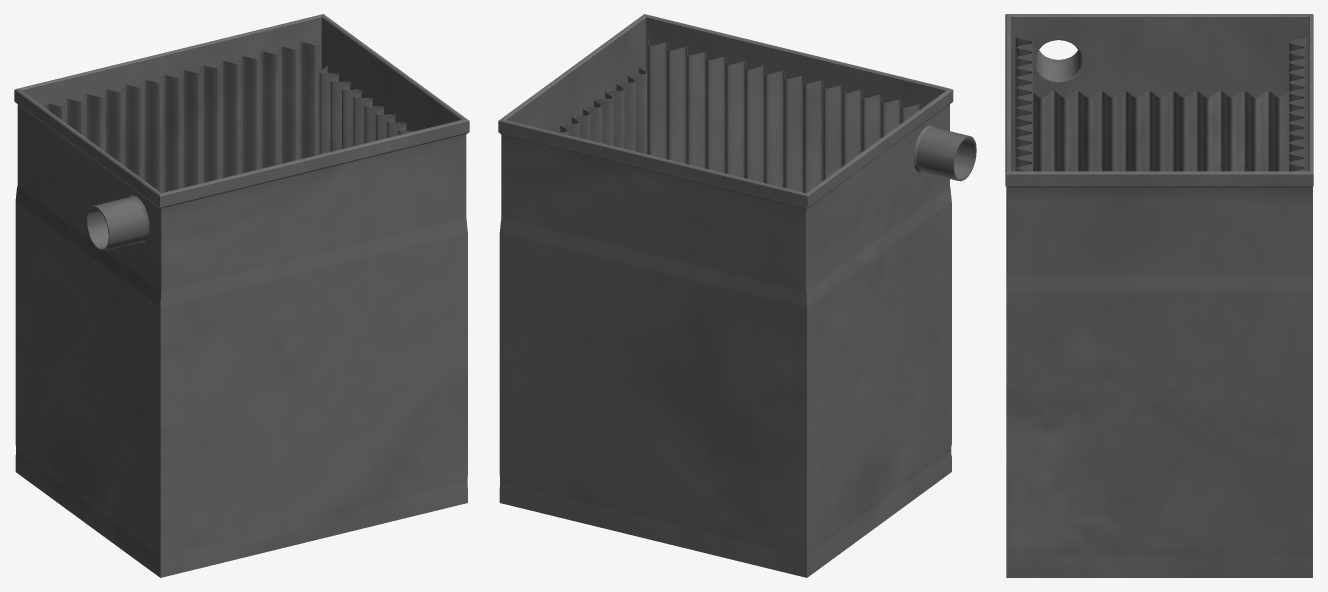
Rendered from AAH_developmenttank.glb.
3 renders of one model, left to right at view 1: azimuth 30°, elevation 25°; view 2: azimuth 150°, elevation 25°; view 3: azimuth 270°, elevation 25°, orthographic. The views are drawn at different scales.
Parts seen in each view (by area): view 1: developmenttank_uv; view 2: developmenttank_uv; view 3: developmenttank_uv.
Boxes of the visible parts, left/top/right/bottom form: developmenttank_uv: left=14, top=14, right=469, bottom=577; developmenttank_uv: left=498, top=14, right=976, bottom=577; developmenttank_uv: left=1005, top=14, right=1313, bottom=577.
Bounding box in the file's own units: 9.69 × 10.24 × 7.06.
Materials: 1 (1 with a texture image).
